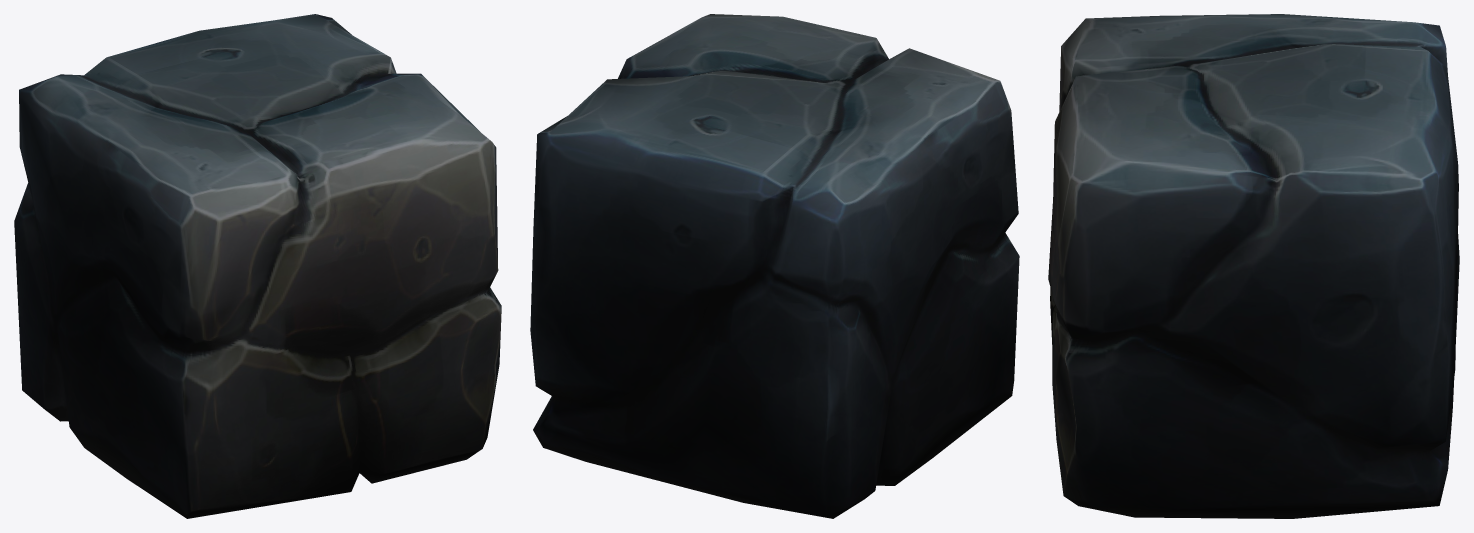
The model's file is Stylized_Low-poly_Stone_Block.glb.
3 views of the same model, side by side, from view 1: azimuth 30°, elevation 25°; view 2: azimuth 150°, elevation 25°; view 3: azimuth 270°, elevation 25° (orthographic). The views are drawn at different scales.
Parts seen in each view (by area): view 1: defaultMaterial; view 2: defaultMaterial; view 3: defaultMaterial.
Part boxes in pixels (x1=…): defaultMaterial: x1=14, y1=14, x2=501, y2=518; defaultMaterial: x1=530, y1=14, x2=1019, y2=518; defaultMaterial: x1=1048, y1=14, x2=1459, y2=518.
Bounding box in the file's own units: 210 × 209 × 209.
1 material, 1 textured.
